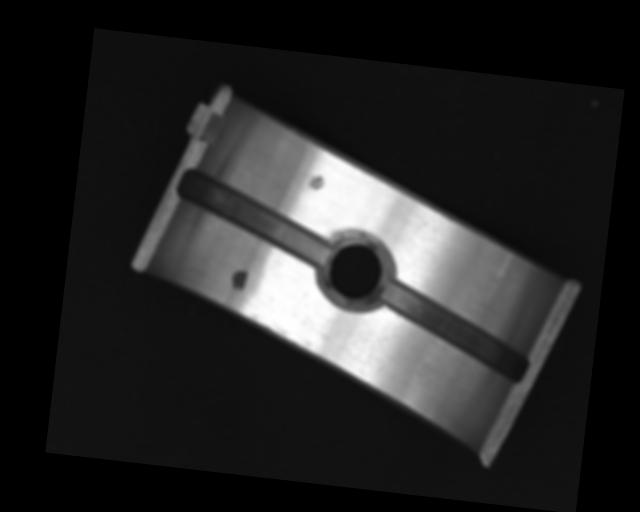blot: (229, 267, 249, 292)
bruise: (306, 172, 326, 191)
gap: (170, 166, 337, 270), (371, 278, 536, 382)
hole: (318, 228, 392, 308)
